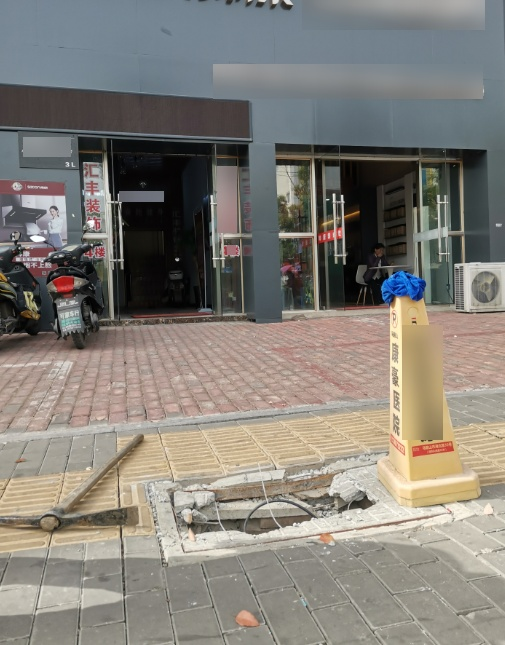broke: (144, 453, 464, 560)
